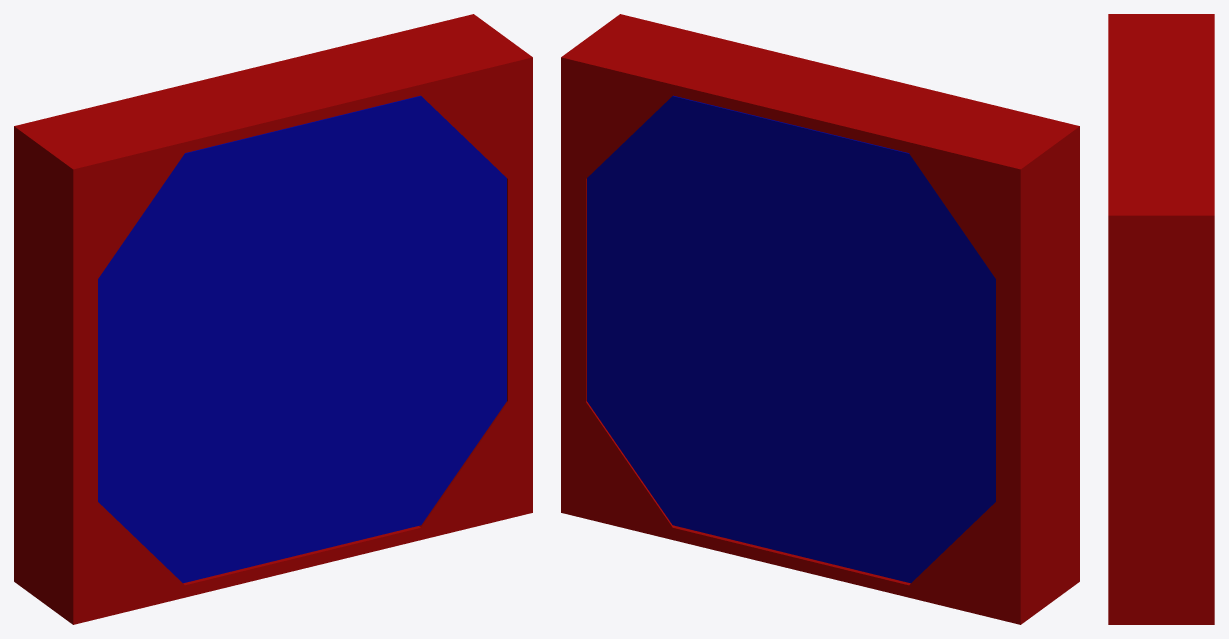
Rendered from window.fbx.
3 views of the same model, side by side, from view 1: azimuth 30°, elevation 25°; view 2: azimuth 150°, elevation 25°; view 3: azimuth 270°, elevation 25° (orthographic). The views are drawn at different scales.
Parts seen in each view (by area): view 1: glass, metal_rim; view 2: glass, metal_rim; view 3: metal_rim.
Boxes of the visible parts, bbox=[...] form: glass: bbox=[98, 95, 506, 583]; metal_rim: bbox=[14, 14, 532, 624]; glass: bbox=[587, 95, 995, 583]; metal_rim: bbox=[561, 14, 1079, 624]; metal_rim: bbox=[1108, 14, 1214, 624].
Bounding box in the file's own units: 2.2 × 2.09 × 0.4914.
